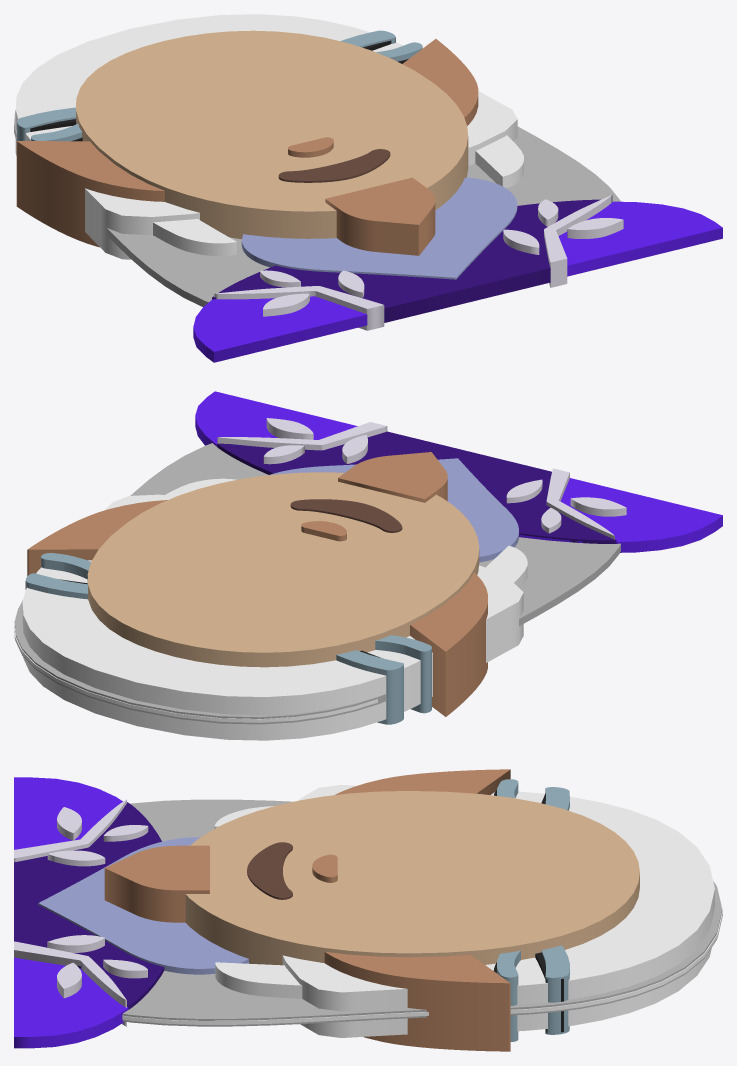
The model's file is emoji_u1f9dd_1f3fc_200d_2640.glb.
3 views of the same model, one above another, from view 1: azimuth 30°, elevation 25°; view 2: azimuth 150°, elevation 25°; view 3: azimuth 270°, elevation 25° (orthographic). The views are drawn at different scales.
Visible parts, largest first — view 1: emoji_u1f9dd_1f3fc_200d_2640; view 2: emoji_u1f9dd_1f3fc_200d_2640; view 3: emoji_u1f9dd_1f3fc_200d_2640.
Part boxes in pixels (left/top/right/bottom): emoji_u1f9dd_1f3fc_200d_2640: left=14, top=14, right=722, bottom=362; emoji_u1f9dd_1f3fc_200d_2640: left=14, top=391, right=722, bottom=740; emoji_u1f9dd_1f3fc_200d_2640: left=14, top=769, right=722, bottom=1051.
Bounding box in the file's own units: 0.0293 × 0.0046 × 0.0338.
